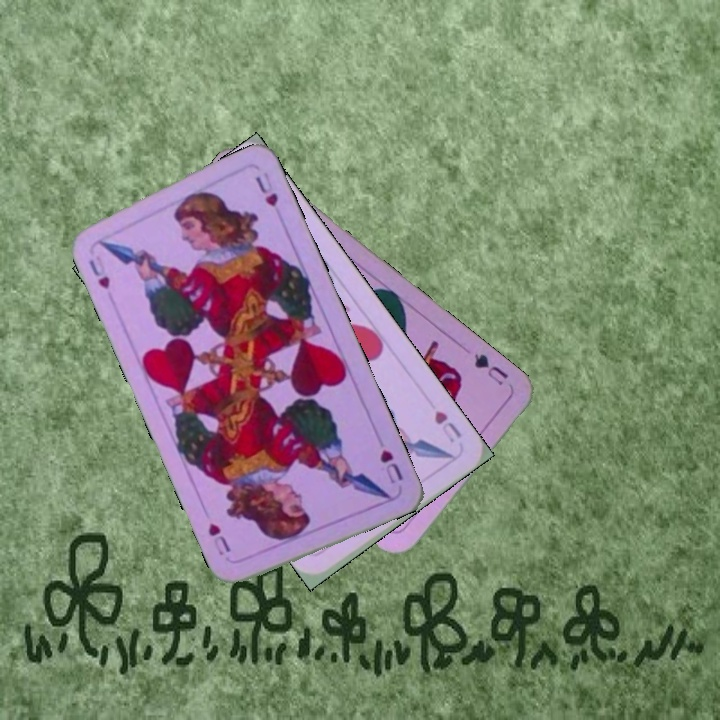GU: (470, 349, 511, 388)
HU: (84, 239, 113, 292), (430, 406, 465, 446), (376, 445, 406, 487)
